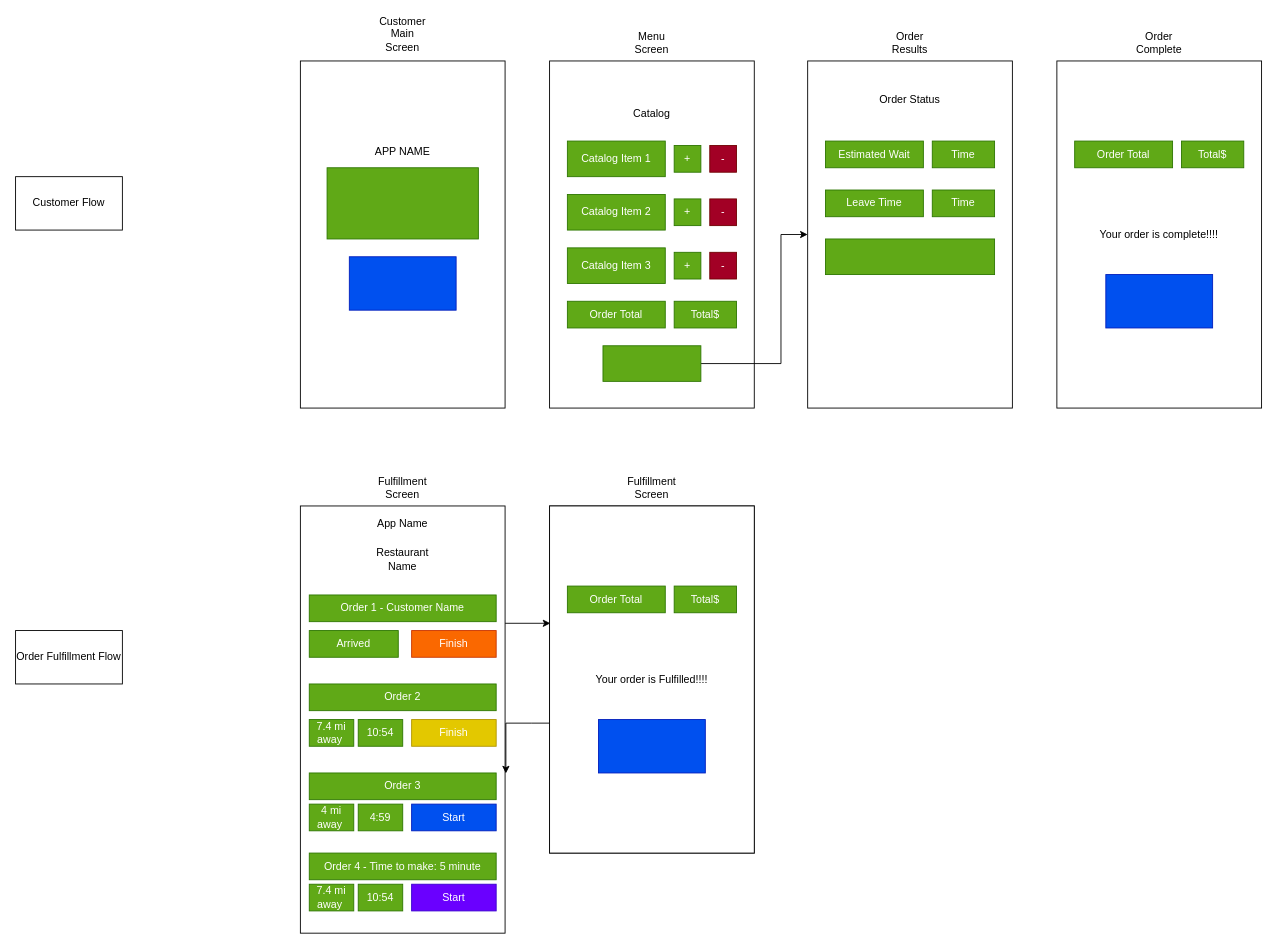
Some shapes in this 1277 by 949 pixel diagram are drawn without their labels. Each missing label, with the centre of its shape:
Back: (651,746)
Order Now: (651,363)
Order status: waiting, being prepared, ready: (910,256)
Powered by NCR LOGO: (402,203)
Start Another Order: (1159,301)
Start Order: (402,283)
